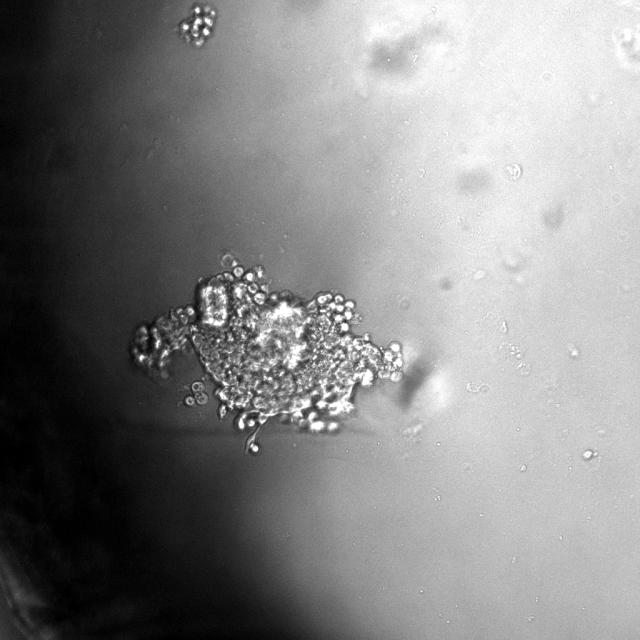organoid: (131, 254, 403, 454), (177, 4, 218, 47), (184, 381, 208, 406)
